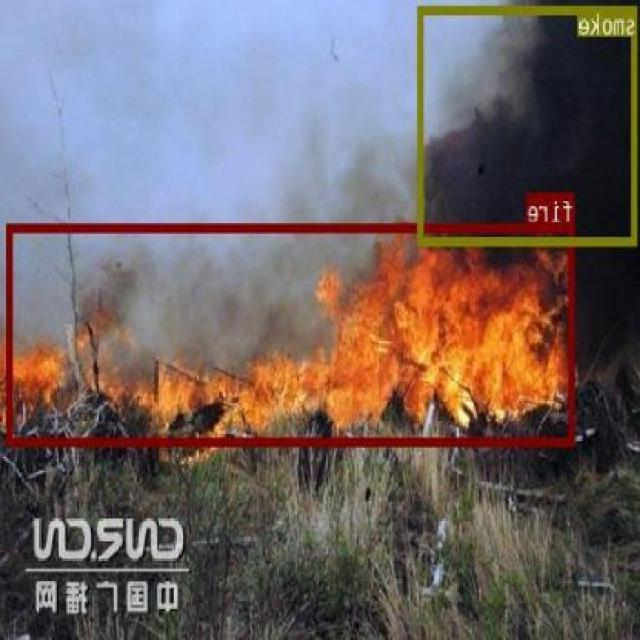Fire: (9, 223, 576, 444)
Smoke: (419, 5, 638, 244)
